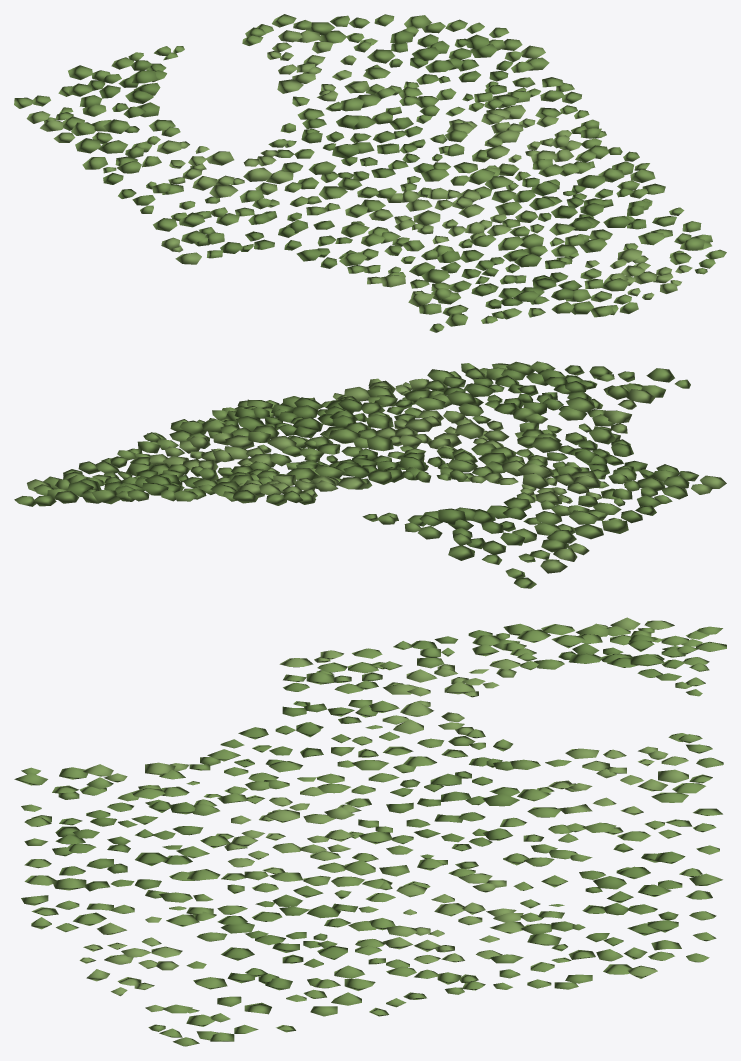
File: canopy-1-2--3.glb
3 views of the same model, one above another, from view 1: azimuth 30°, elevation 25°; view 2: azimuth 150°, elevation 25°; view 3: azimuth 270°, elevation 25° (orthographic). The views are drawn at different scales.
Bounding box in the file's own units: 515 × 135 × 518.
1 material, 1 textured.
